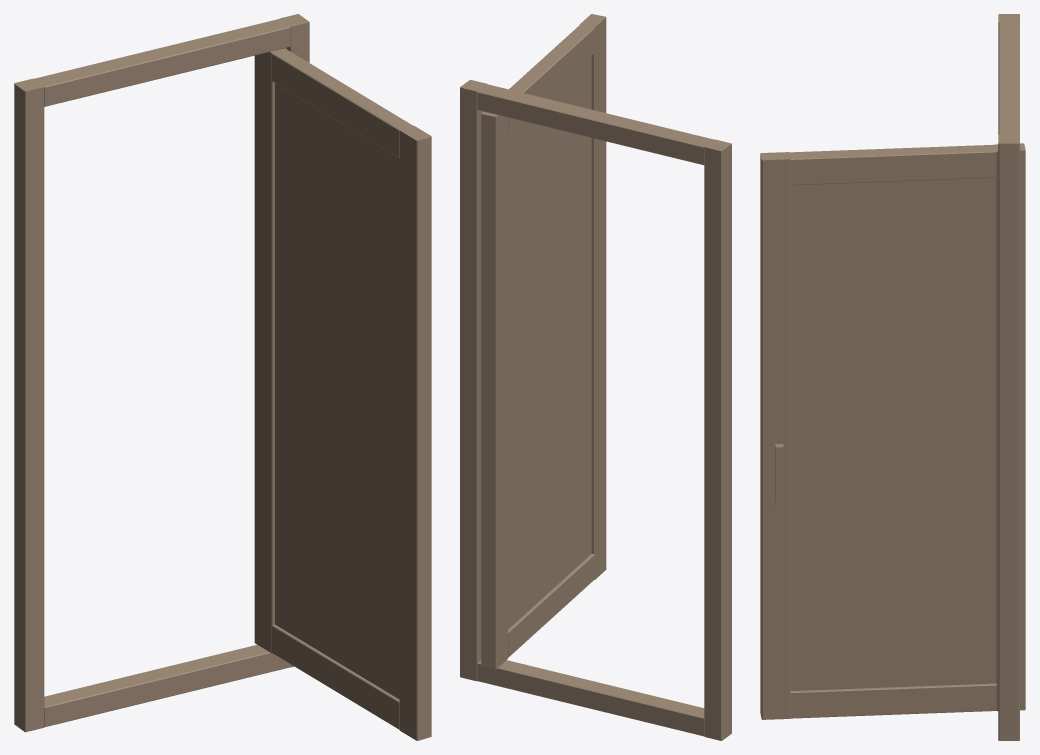
Rendered from bt-A400K-1-ouvert-quartz-1019.glb.
3 renders of one model, left to right at view 1: azimuth 30°, elevation 25°; view 2: azimuth 150°, elevation 25°; view 3: azimuth 270°, elevation 25°, orthographic. The views are drawn at different scales.
Visible parts, largest first — view 1: structure, panneau; view 2: structure, panneau; view 3: panneau, structure.
Part boxes in pixels (x1,y1,x2,y2): structure: [14, 14, 431, 740]; panneau: [275, 83, 399, 699]; structure: [460, 14, 731, 740]; panneau: [508, 56, 591, 628]; panneau: [790, 177, 996, 690]; structure: [760, 14, 1025, 740].
Size of the model in its own units: 1.01 by 2.15 by 0.8652.
